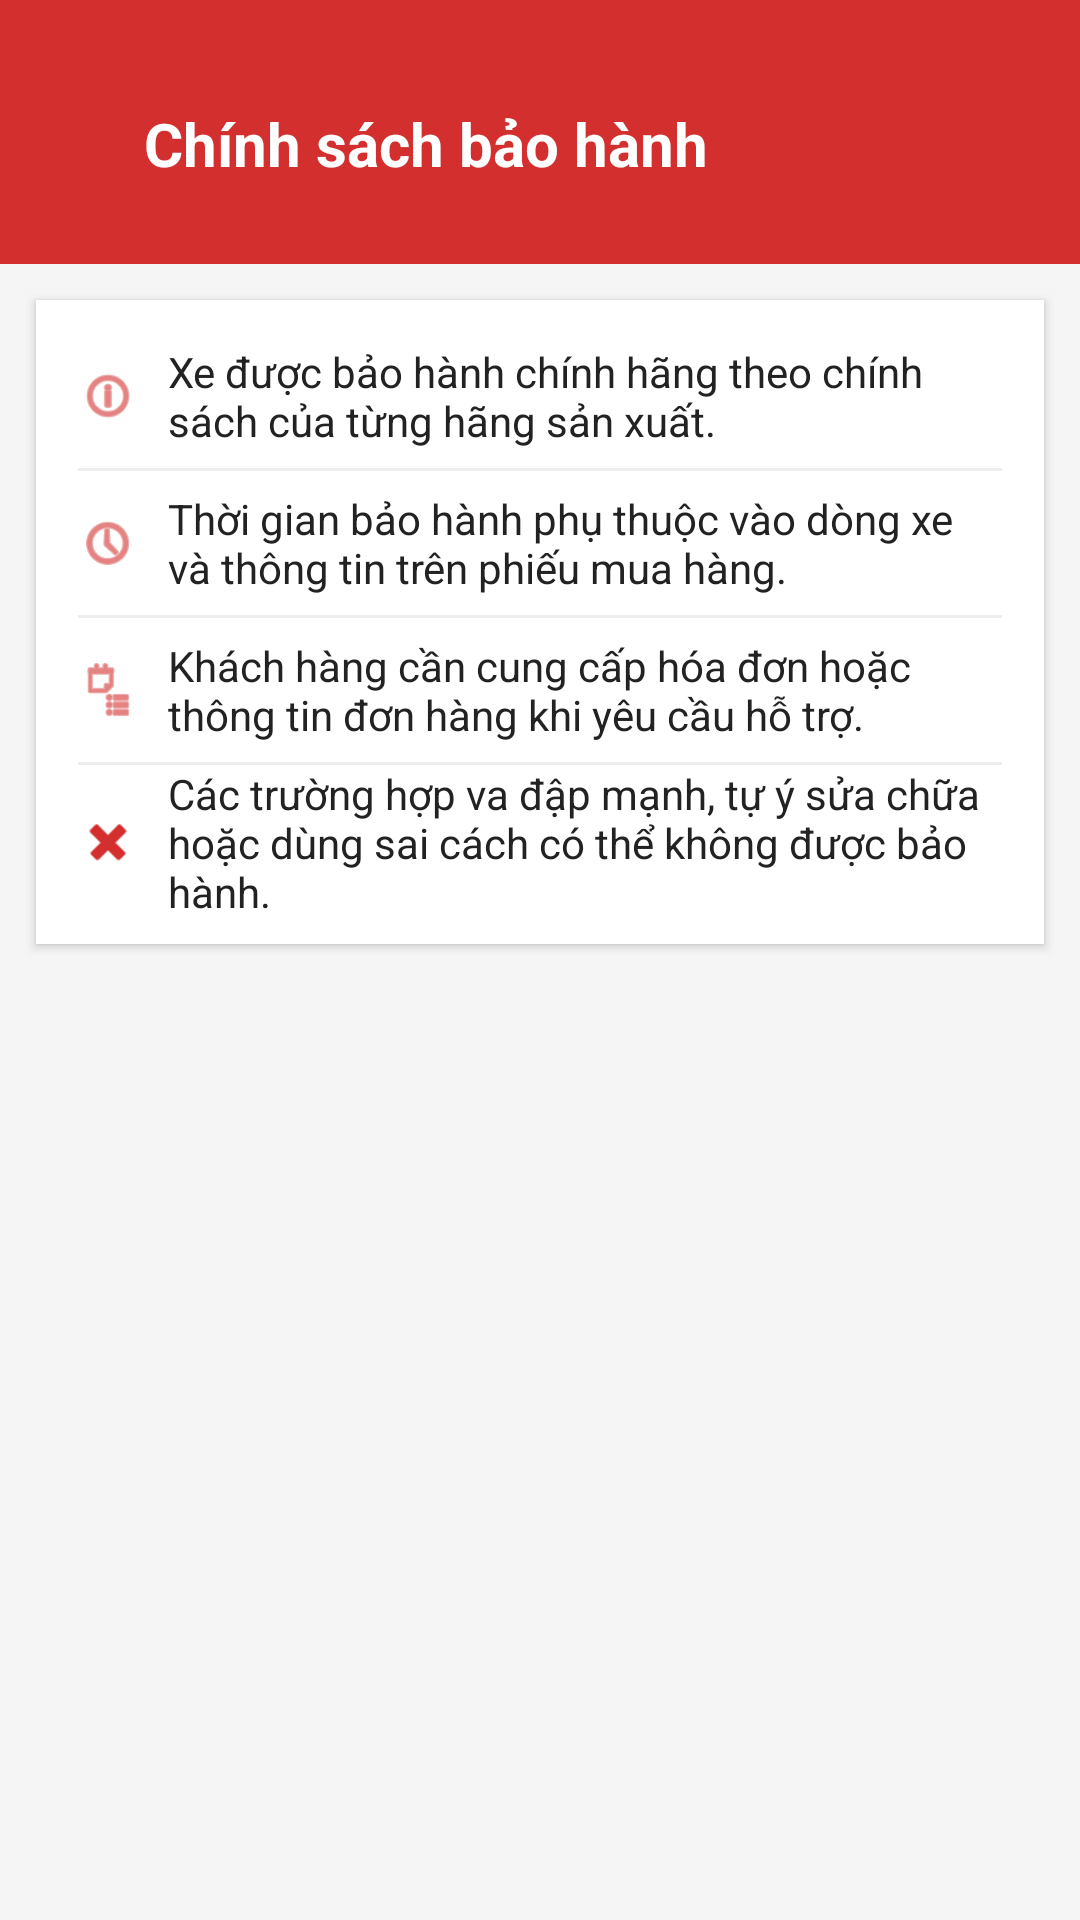

Screen size 1080*1920. Icon name, then its box in pixels as (x1, y1, x2, y2):
agenda: (87, 663, 129, 716)
delete: (89, 824, 127, 861)
info details: (86, 374, 130, 418)
recent history: (86, 522, 129, 565)
